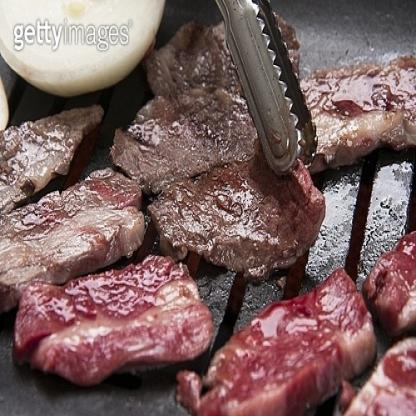beef: (200, 266, 367, 410), (27, 270, 208, 355), (160, 162, 274, 276), (123, 98, 245, 186), (0, 186, 143, 257), (0, 124, 88, 195)
